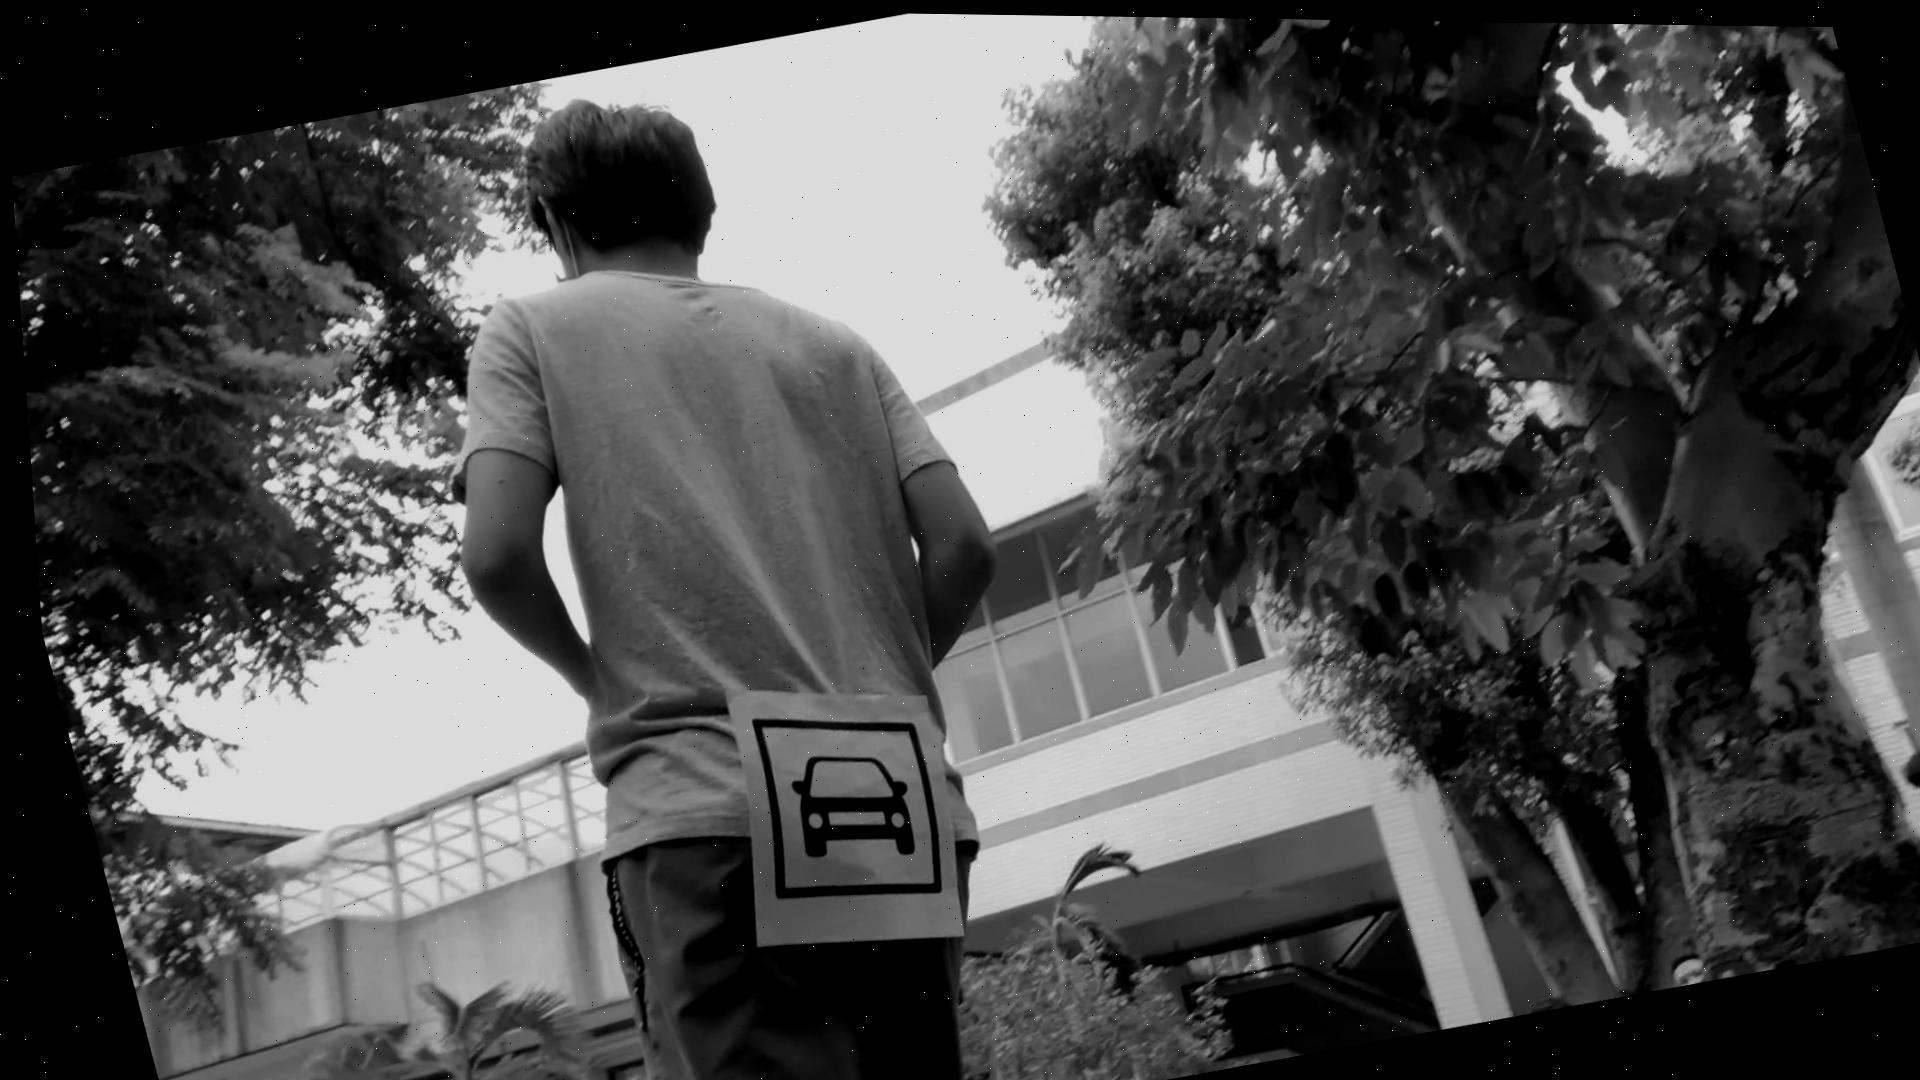car_img: (719, 684, 949, 923)
